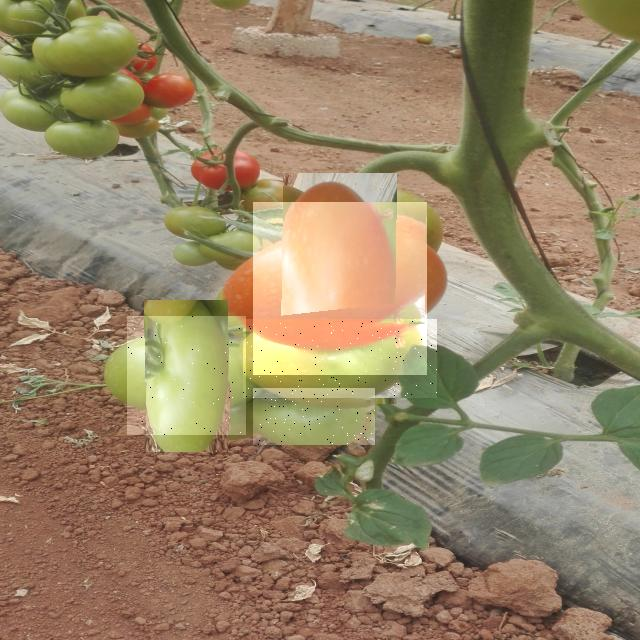Ripe Tomato: (253, 202, 427, 375)
Unripe Tomato: (243, 319, 437, 398), (127, 316, 246, 435), (253, 388, 375, 445)
